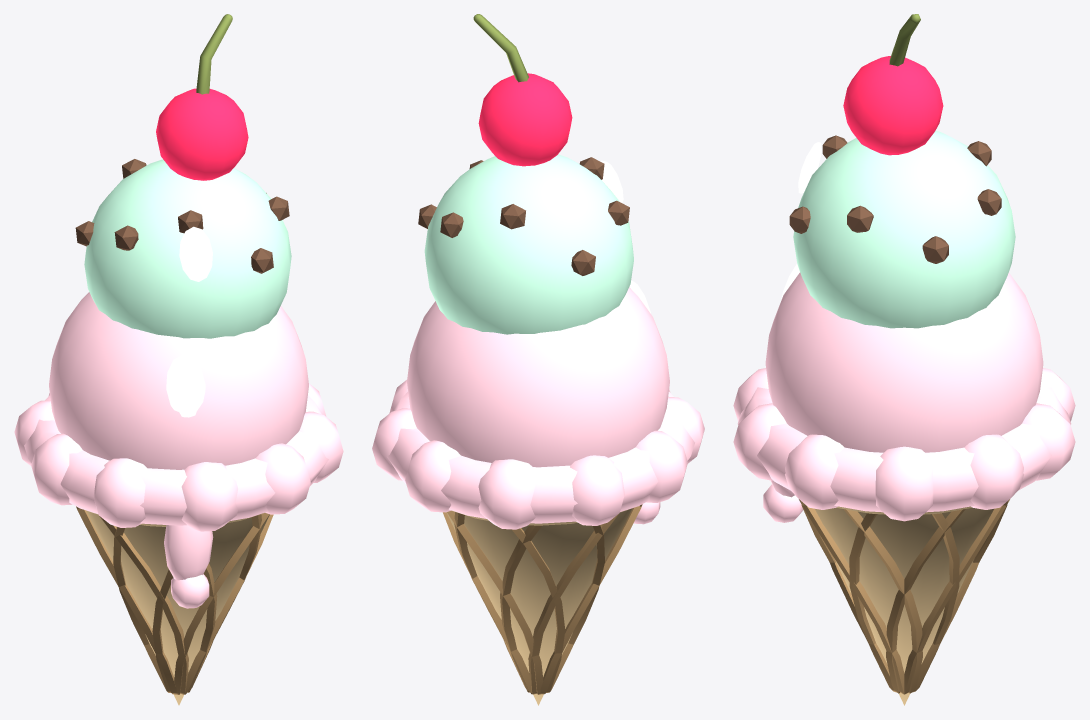
Rendered from treat_icecream.glb.
3 renders of one model, left to right at view 1: azimuth 30°, elevation 25°; view 2: azimuth 150°, elevation 25°; view 3: azimuth 270°, elevation 25°, orthographic. The views are drawn at different scales.
Visible parts, largest first — view 1: treat_icecream; view 2: treat_icecream; view 3: treat_icecream.
Part boxes in pixels (x1,y1,x2,y2): treat_icecream: (14,14,343,705); treat_icecream: (372,14,704,705); treat_icecream: (733,14,1075,705).
Size of the model in its own units: 0.32 by 0.7145 by 0.3078.
